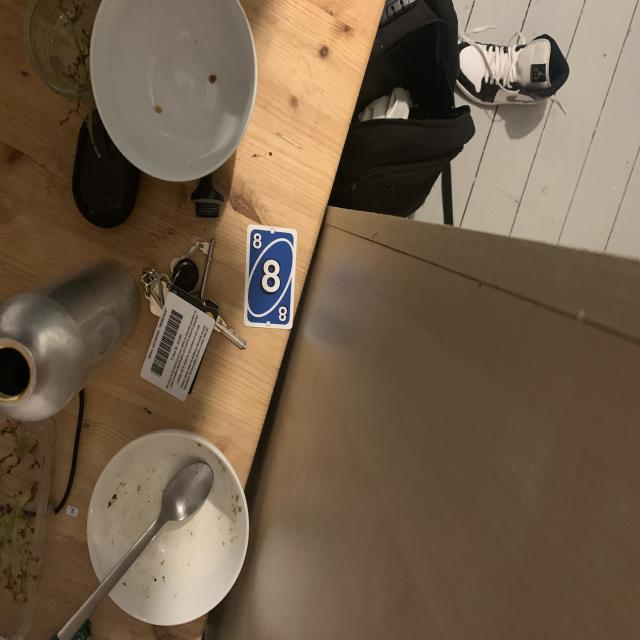lblue-8: (249, 230, 265, 253)
